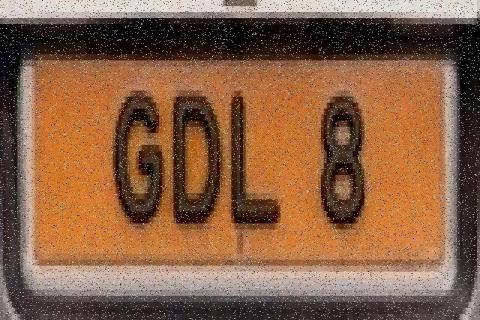LicensePlate: (21, 31, 457, 290)
